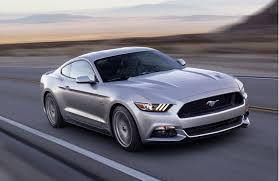car: (40, 44, 254, 147), (40, 44, 254, 122)
